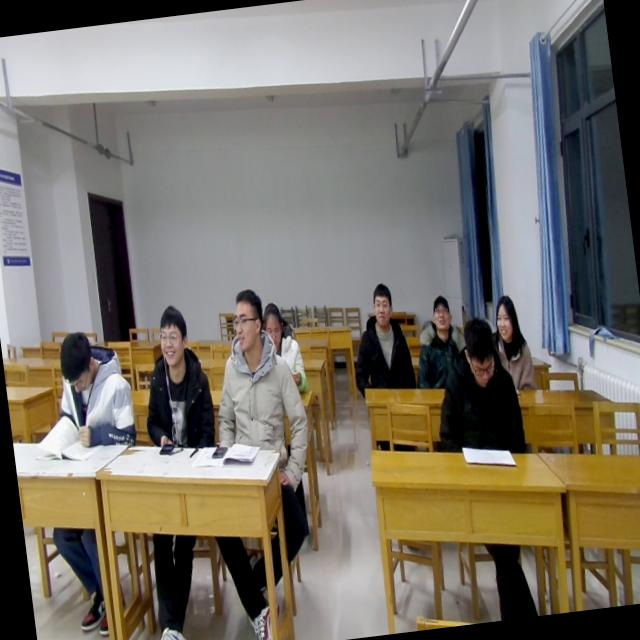down: (454, 310, 501, 394), (50, 322, 100, 398), (260, 298, 286, 348)
lookup: (148, 300, 194, 368), (224, 282, 266, 352), (488, 289, 524, 351), (364, 277, 398, 328), (426, 288, 456, 332)
sit: (199, 281, 314, 459), (423, 310, 528, 462), (130, 300, 220, 456), (46, 326, 138, 460), (343, 279, 418, 396), (407, 290, 472, 392), (486, 292, 540, 396), (259, 295, 311, 401)
